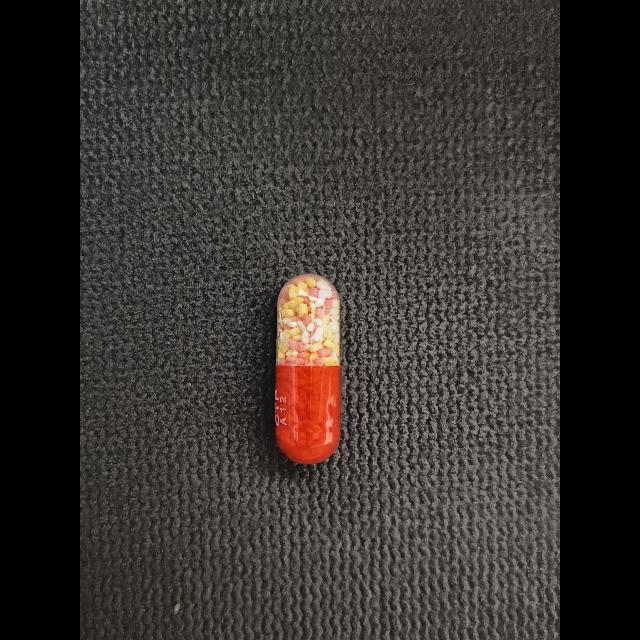Intact Capsule: (275, 274, 341, 464)
